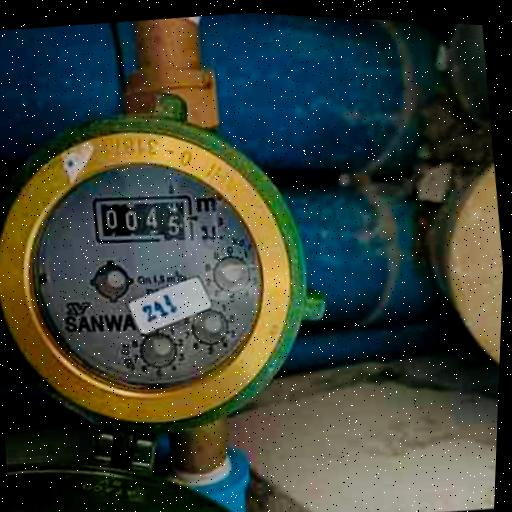0: (96, 201, 124, 238), (119, 200, 145, 236)
4: (139, 200, 166, 236)
5: (160, 198, 188, 242)
border_water_meter_number: (88, 185, 197, 252)
